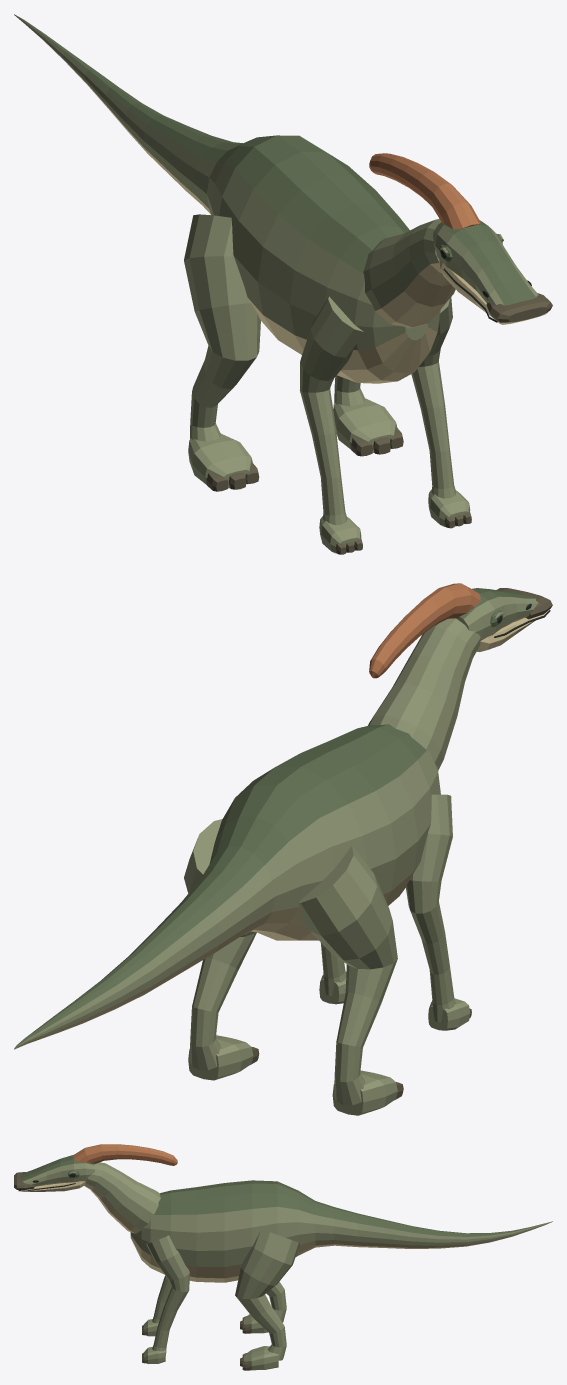
3 renders of one model, top to bottom at view 1: azimuth 30°, elevation 25°; view 2: azimuth 150°, elevation 25°; view 3: azimuth 270°, elevation 25°, orthographic. The views are drawn at different scales.
Visible parts, largest first — view 1: Parasaurolophus-editable-anatomy; view 2: Parasaurolophus-editable-anatomy; view 3: Parasaurolophus-editable-anatomy.
Part boxes in pixels (left/top/right/bottom): Parasaurolophus-editable-anatomy: left=14, top=14, right=552, bottom=554; Parasaurolophus-editable-anatomy: left=14, top=583, right=552, bottom=1115; Parasaurolophus-editable-anatomy: left=14, top=1144, right=552, bottom=1370.
Bounding box in the file's own units: 1.96 × 3.74 × 9.
